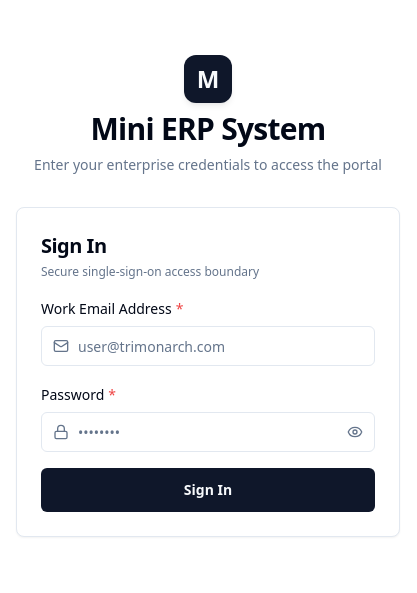
Test: LoginPage UI & Validation › displays authentication error alert on invalid credentials
Step 1. Type "wrong@example.com" into the field labelled "Work Email Address*" → (208, 346), box [41,326,375,366]
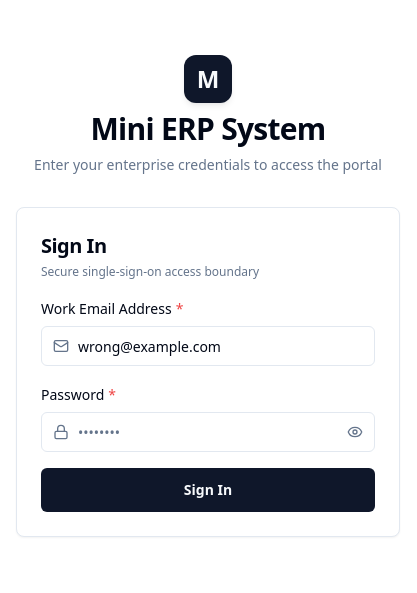
Step 2. Type "wrongpass" into the password field labelled "Password*" → (208, 432), box [41,412,375,452]
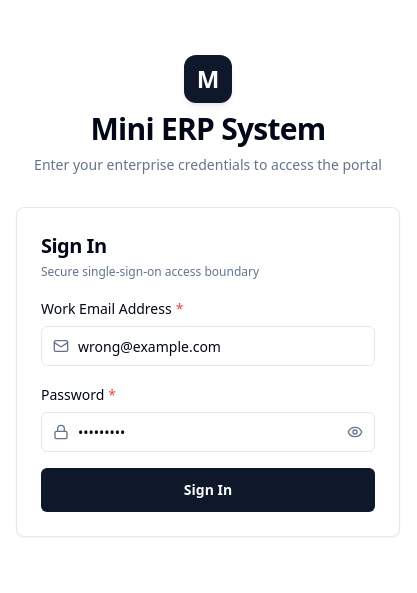
Step 3. Click the button "Sign In" → (208, 490), box [41,468,375,512]
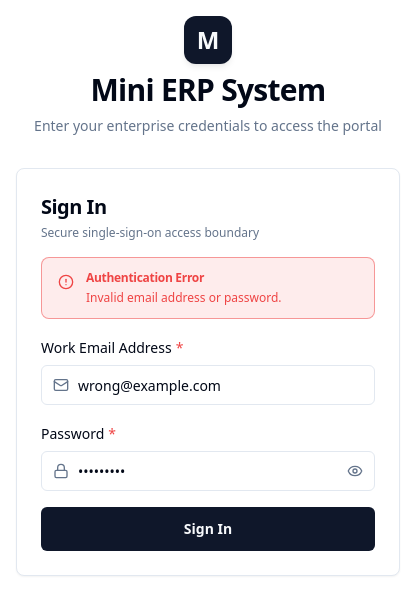
Now the text "Invalid email address or password." is shown, box [86,289,282,306]
